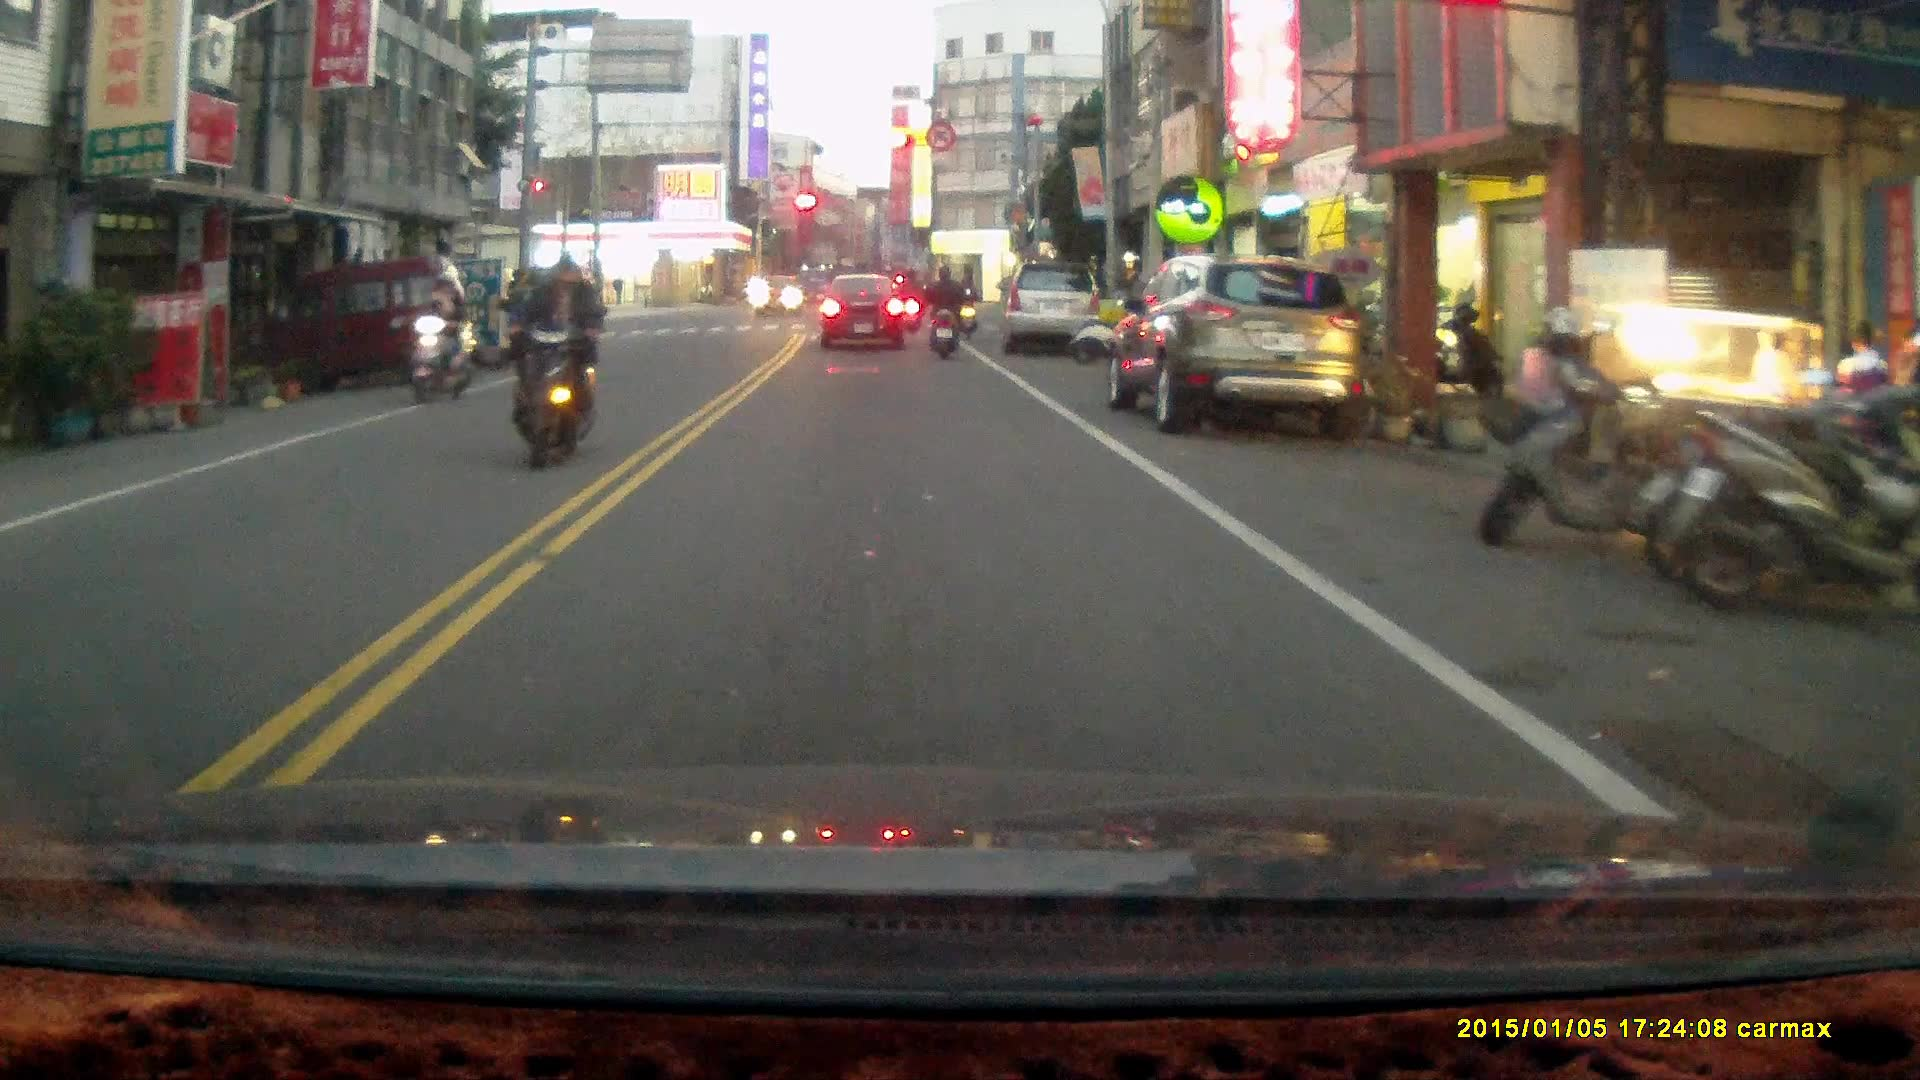pedestrian: (1836, 319, 1891, 474)
rider: (507, 247, 600, 473), (405, 270, 477, 408), (918, 265, 964, 364), (893, 265, 922, 331), (953, 273, 979, 338)
vehicle: (1111, 256, 1366, 444), (261, 254, 479, 398), (1005, 264, 1104, 359), (820, 279, 911, 352)
